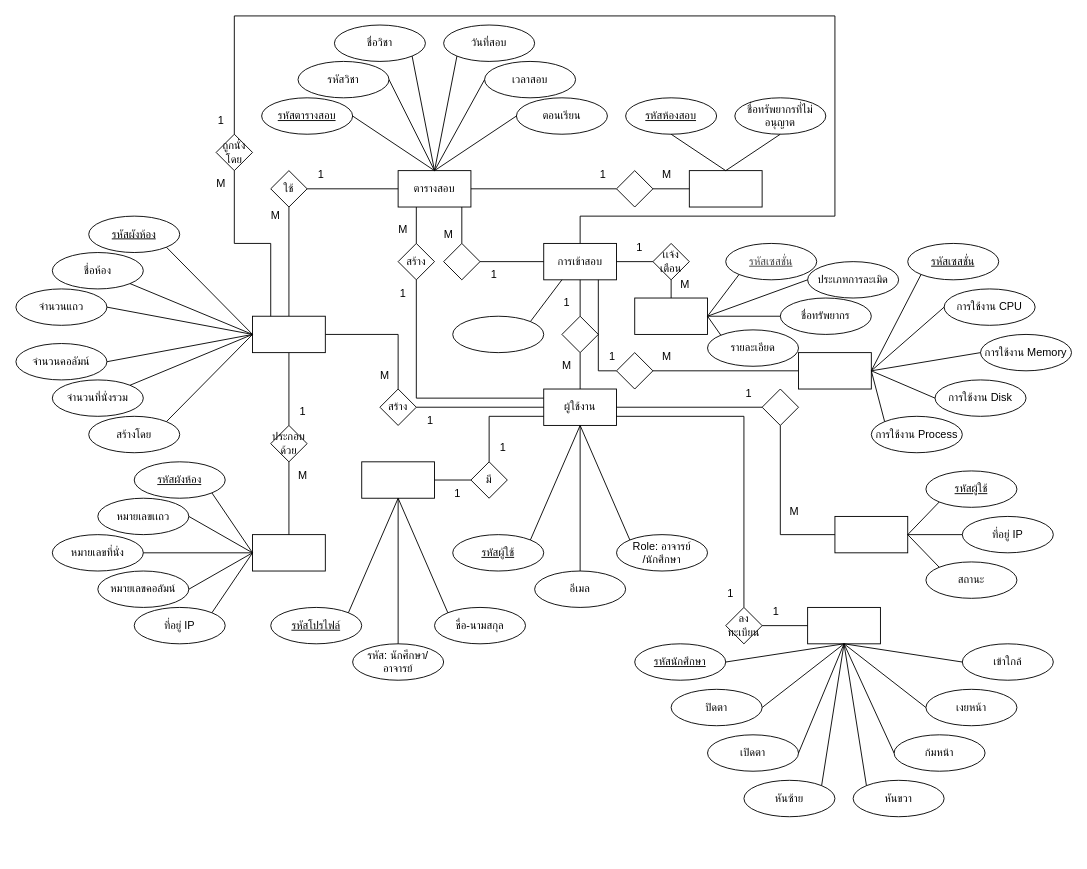
Image size: 1087x869. Some labels were removed from this diagram. Each missing label, with the box of its shape:
กำหนด: (616, 170, 653, 207)
ข้อมูลส่วนตัว: (361, 461, 435, 498)
ตำเเหน่ง ที่นั่งสอบ: (252, 534, 325, 571)
ถูกบันทึก: (616, 352, 653, 389)
ทรัพยากรที่ไม่อนุญาต: (688, 170, 762, 207)
บันทึกทรัพยากรที่ใช้งาน: (798, 352, 871, 389)
ผังห้องสอบ: (252, 315, 325, 353)
มีผู้สอบ: (443, 243, 480, 280)
ยืนยันตัวตนด้วย QR code: (834, 516, 908, 553)
รูปถ่ายใบหน้า (นักศึกษา): (807, 607, 880, 644)
ร้องขอ: (761, 388, 799, 425)
สถานะยืนยันตัวตน: (452, 315, 544, 353)
เข้าสอบ: (561, 315, 598, 353)
เเจ้งเตือนการละเมิด: (634, 297, 708, 334)
